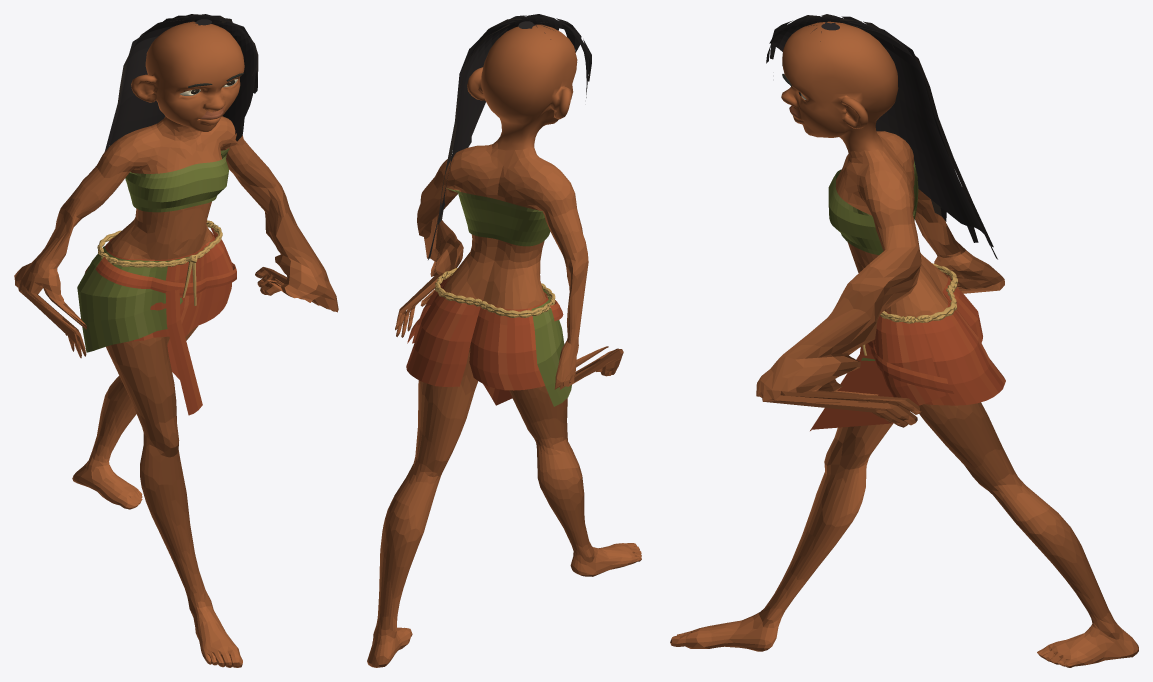
Rendered from mulher_01.glb.
The picture shows the model from 3 angles, left to right: view 1: azimuth 30°, elevation 25°; view 2: azimuth 150°, elevation 25°; view 3: azimuth 270°, elevation 25°; orthographic projection. The views are drawn at different scales.
Parts seen in each view (by area): view 1: mulher_01_corpo; view 2: mulher_01_corpo; view 3: mulher_01_corpo.
Boxes of the visible parts, bbox=[...] form: mulher_01_corpo: bbox=[14, 14, 338, 667]; mulher_01_corpo: bbox=[367, 14, 641, 667]; mulher_01_corpo: bbox=[670, 14, 1138, 667].
Bounding box in the file's own units: 0.6275 × 1.61 × 1.07.
